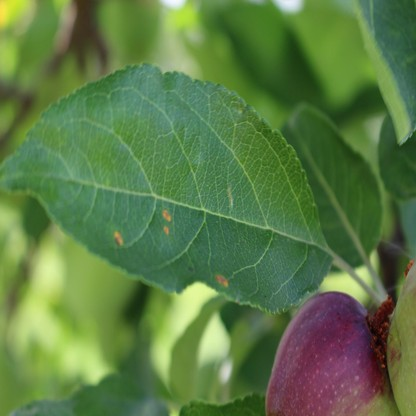rust: (113, 229, 125, 246), (215, 272, 227, 286), (162, 210, 170, 220), (163, 226, 169, 234)
